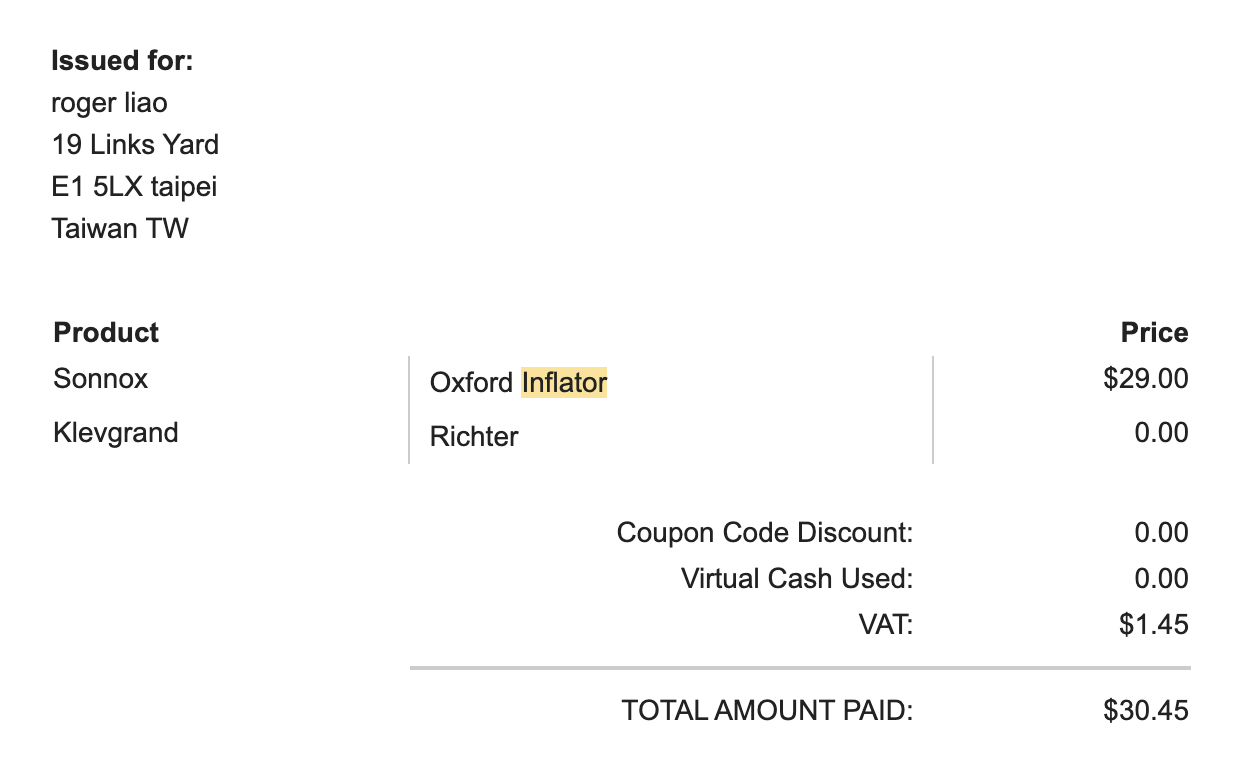dog: (267, 325, 732, 746)
